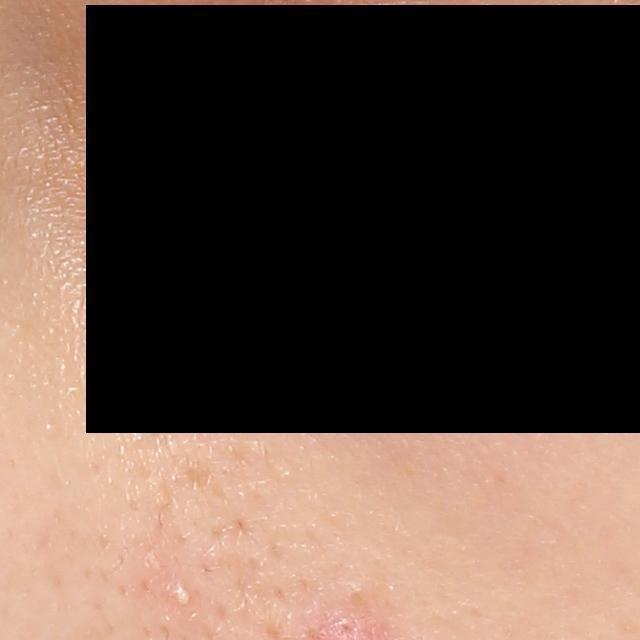pustule: (169, 580, 197, 608)
